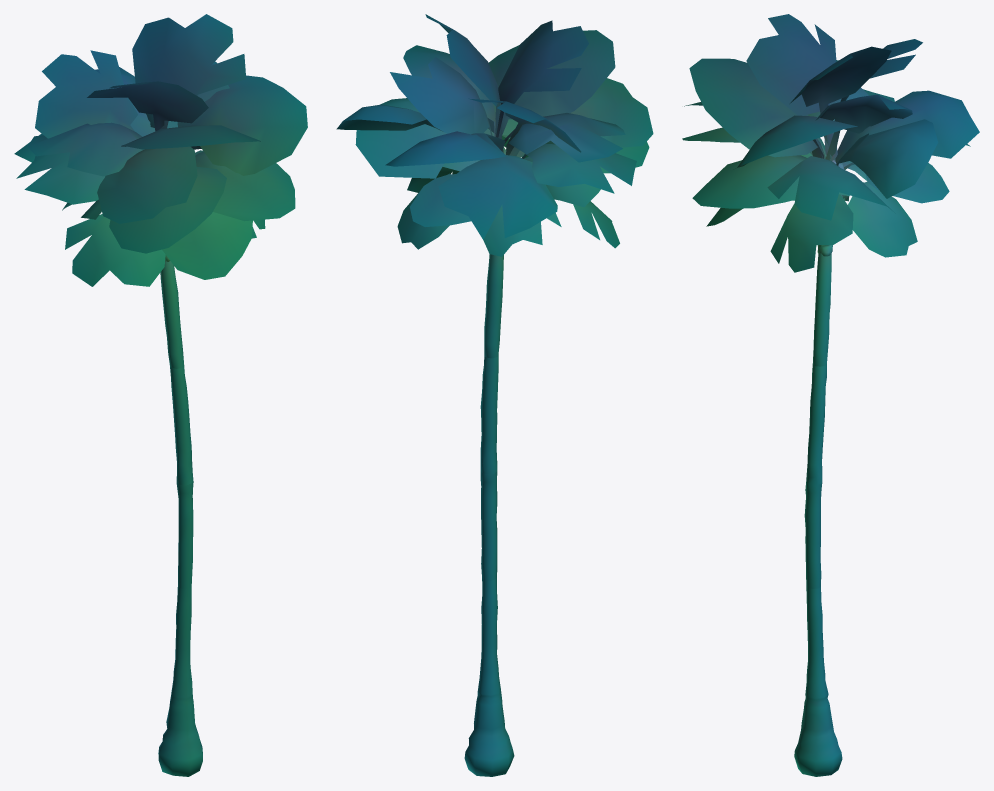
Rendered from SM_Hera_BeachPalm_A_Bake.FBX.
The picture shows the model from 3 angles, left to right: view 1: azimuth 30°, elevation 25°; view 2: azimuth 150°, elevation 25°; view 3: azimuth 270°, elevation 25°; orthographic projection. The views are drawn at different scales.
Parts seen in each view (by area): view 1: SM_Hera_BeachPalm_A_Bake_LOD0; view 2: SM_Hera_BeachPalm_A_Bake_LOD0; view 3: SM_Hera_BeachPalm_A_Bake_LOD0.
Boxes of the visible parts, x1,y1,x2,y2 form: SM_Hera_BeachPalm_A_Bake_LOD0: (14, 14, 307, 776); SM_Hera_BeachPalm_A_Bake_LOD0: (336, 14, 653, 776); SM_Hera_BeachPalm_A_Bake_LOD0: (682, 14, 979, 776).
Size of what is drawn, in the model's own units: 1216 by 1185 by 3244.
